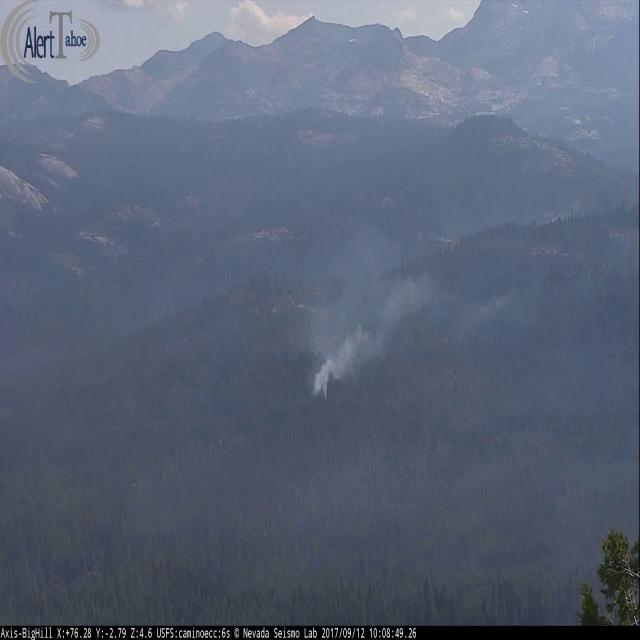smoke: (261, 198, 640, 396)
